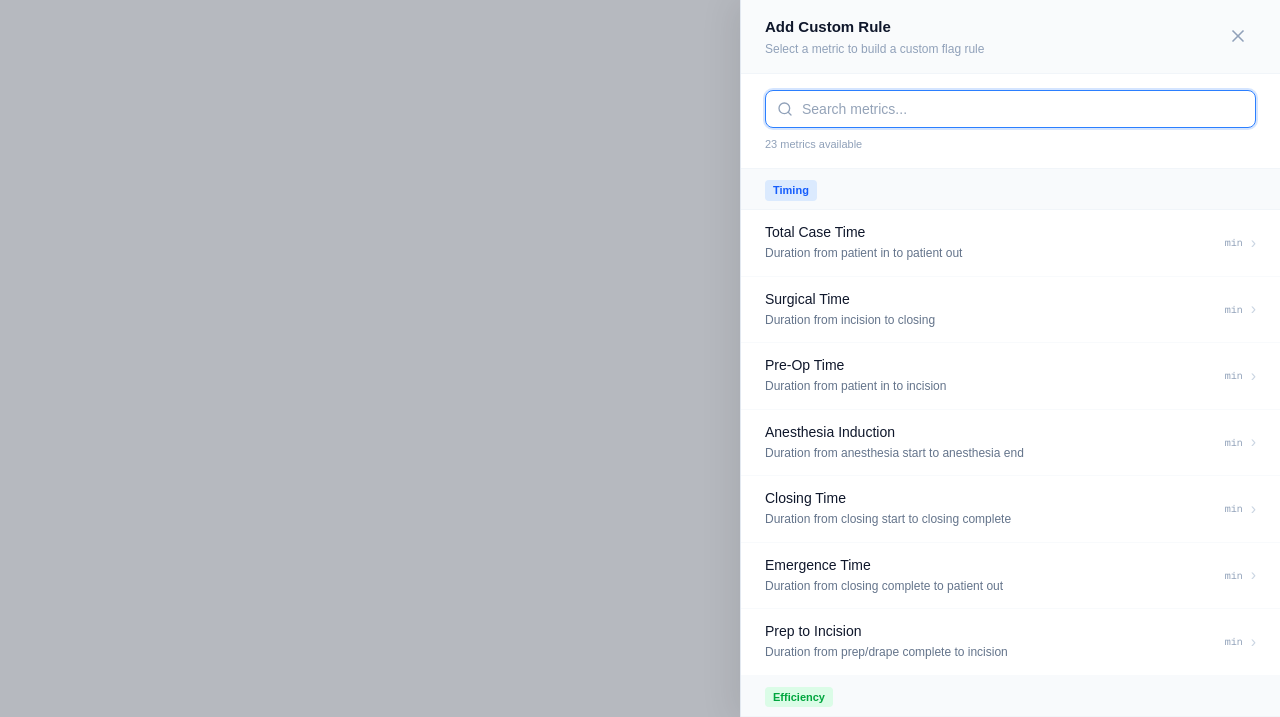
Test: MetricSearchBuilder › Step 1 → Step 2 flow › back button returns to search step and clears selection
Select a metric
Click the text "Total Case Time".
click(815, 232)  # box [765,224,865,240]
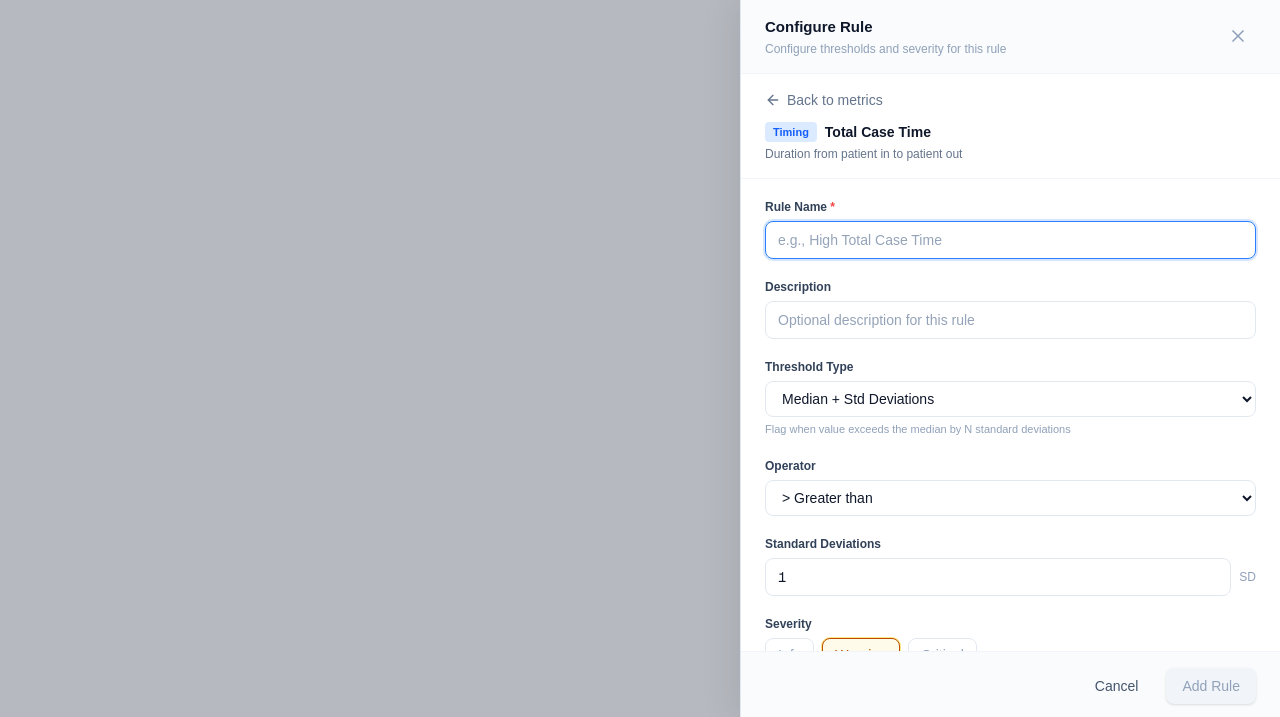
Result: the heading "Configure Rule" is shown at [765,18,872,35]
Click back button
Click the button "Back to metrics".
click(824, 100)  # box [765,90,883,110]
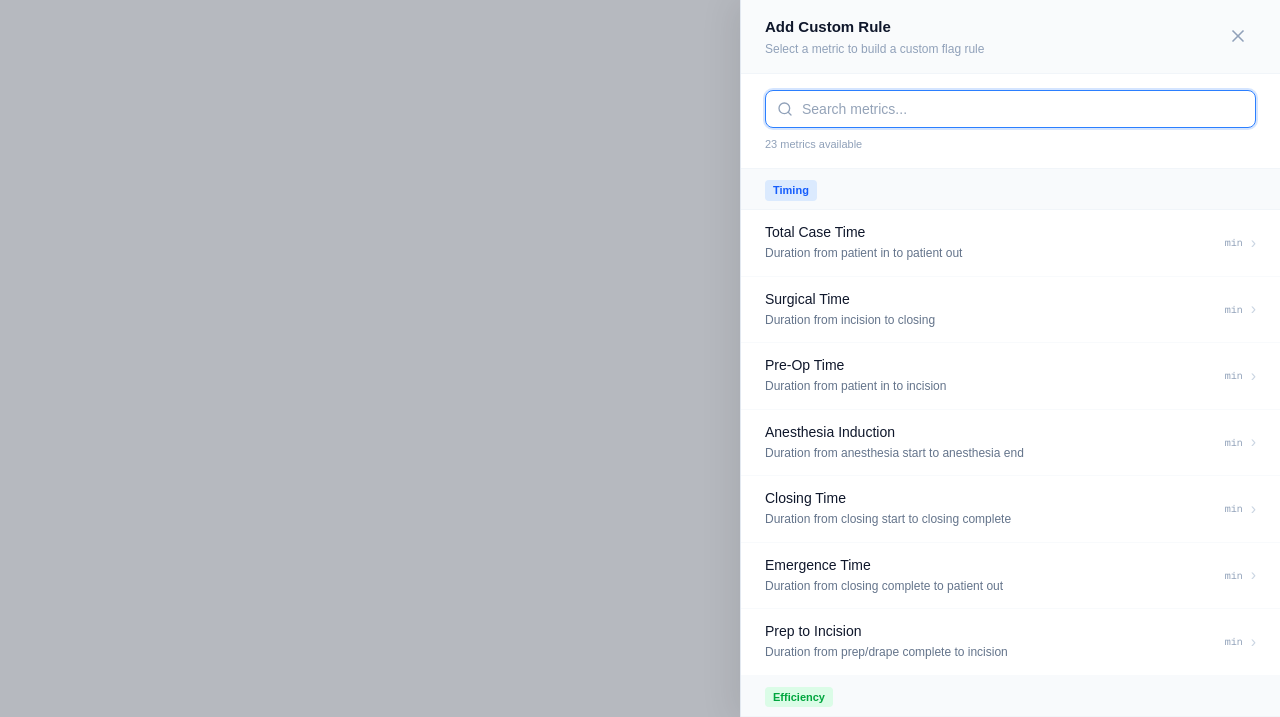
Result: the heading "Add Custom Rule" is shown at [765,18,891,35]
Result: the field with placeholder "Search metrics..." is shown at [765,90,1256,128]
